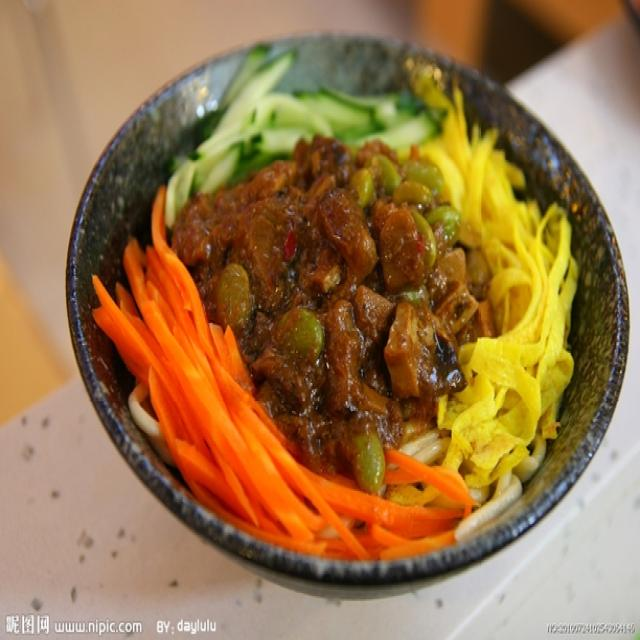面条主食: (86, 39, 603, 584)
